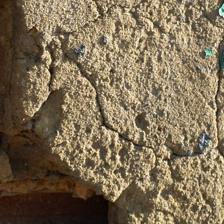Crack: (64, 104, 157, 138), (75, 8, 113, 89), (67, 75, 95, 150), (46, 72, 114, 90)
